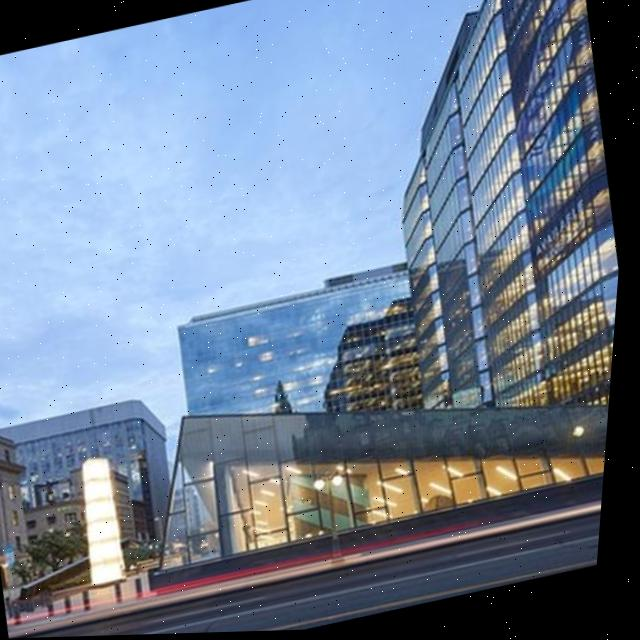building: (334, 0, 640, 475), (159, 255, 441, 465), (0, 388, 190, 578)
